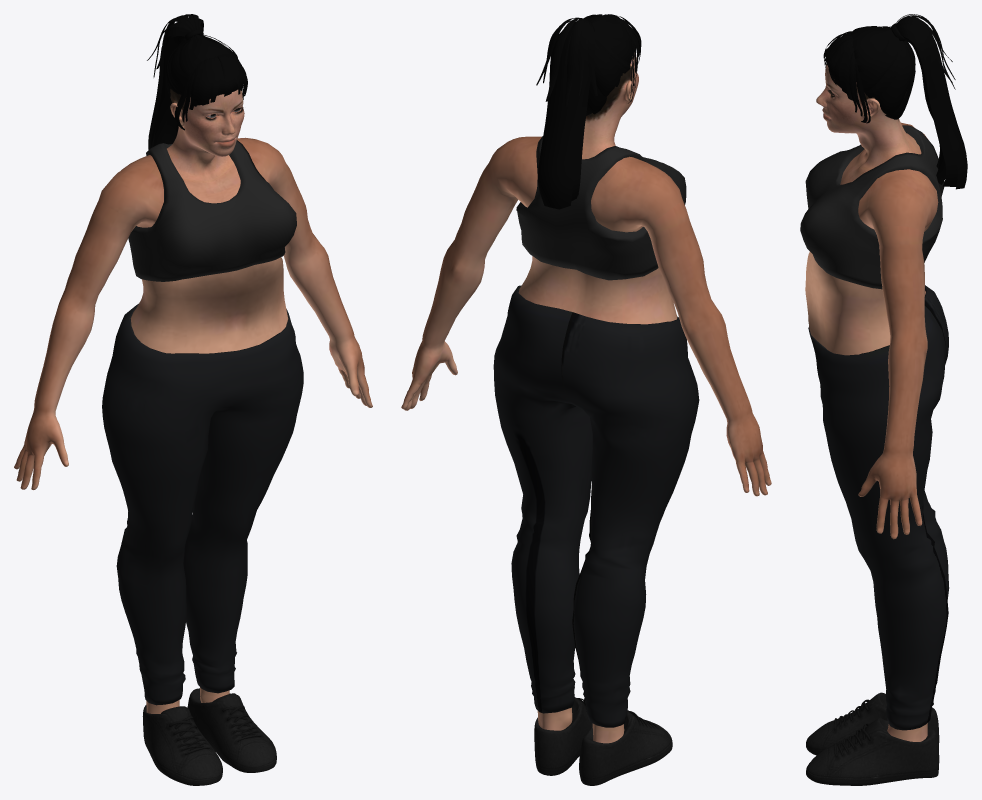
3 views of the same model, side by side, from view 1: azimuth 30°, elevation 25°; view 2: azimuth 150°, elevation 25°; view 3: azimuth 270°, elevation 25° (orthographic). The views are drawn at different scales.
Visible parts, largest first — view 1: C1.006, Arms.003, Shoes.003; view 2: C1.006, Arms.003, Shoes.003, C1.008; view 3: C1.006, Arms.003, Shoes.003, C1.008.
Part boxes in pixels (bbox=[...]): C1.006: bbox=[102, 14, 303, 705]; Arms.003: bbox=[14, 137, 372, 490]; Shoes.003: bbox=[142, 688, 276, 785]; C1.006: bbox=[493, 14, 699, 727]; Arms.003: bbox=[401, 136, 771, 496]; Shoes.003: bbox=[534, 697, 672, 785]; C1.008: bbox=[537, 707, 624, 743]; C1.006: bbox=[800, 14, 967, 730]; Arms.003: bbox=[858, 122, 938, 539]; Shoes.003: bbox=[806, 692, 939, 785]; C1.008: bbox=[887, 723, 927, 741].
Bounding box in the file's own units: 3.66 × 7.33 × 1.49.
Materials: 8 (5 with a texture image).
